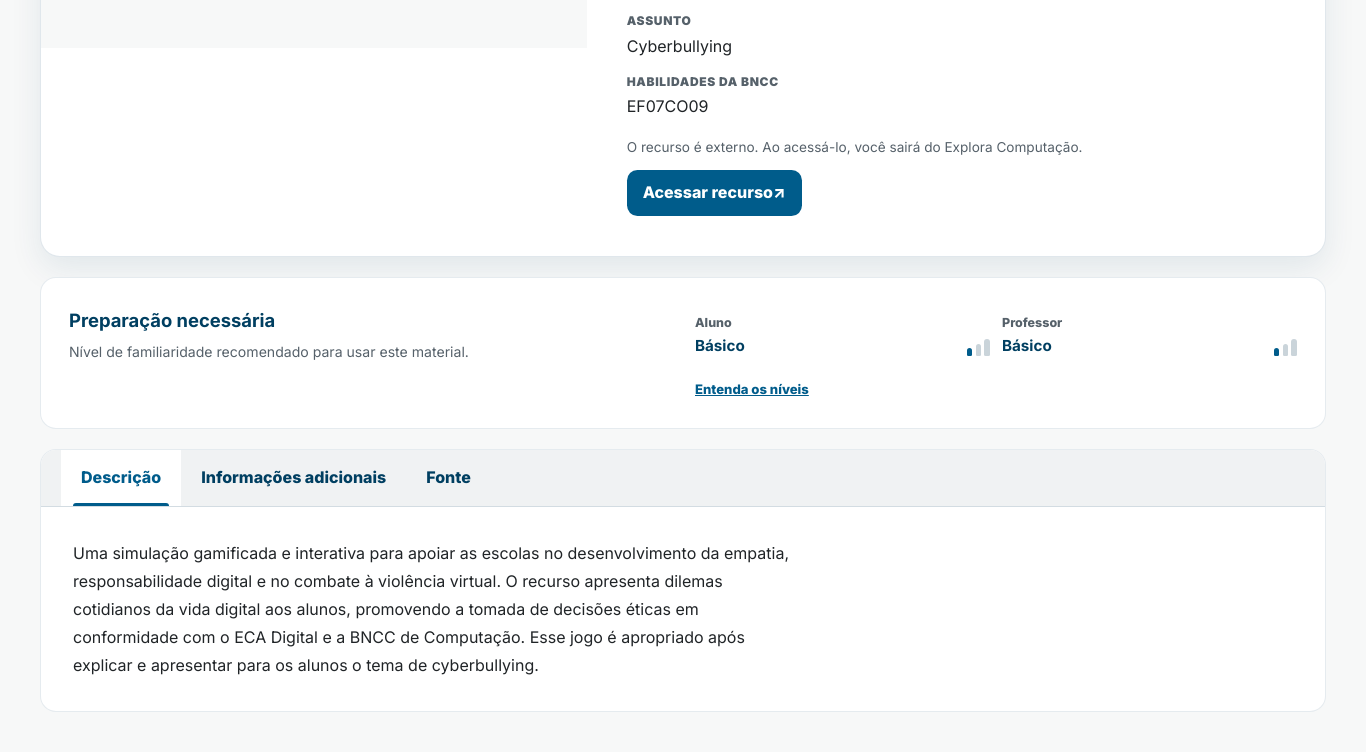
Test: ResourceDetailPage › apresenta a descrição inicialmente e alterna entre as três abas
The width and height of the screenshot is (1366, 752).
(page scrolled)
Expected: the panel shows "Uma simulação gamificada e interativa", [73,543,789,675]
Click the tab "Informações adicionais" at (294, 478), box [181,450,406,506]
(page scrolled)
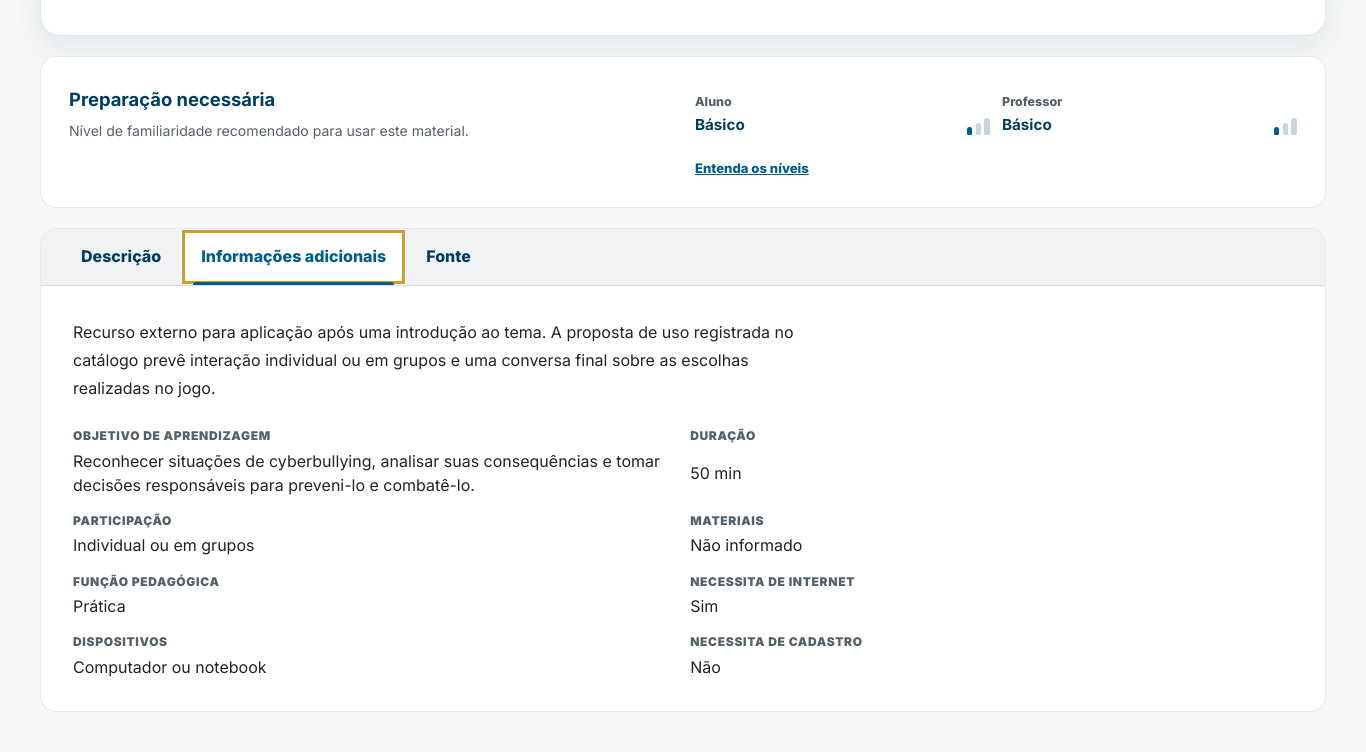
Expected: the panel shows "Objetivo de aprendizagem", [73,428,271,443]
Expected: the panel shows "50 min", [690,463,742,483]
Expected: the panel shows "Individual ou em grupos", [73,535,254,555]
Press Arrowright
(page scrolled)
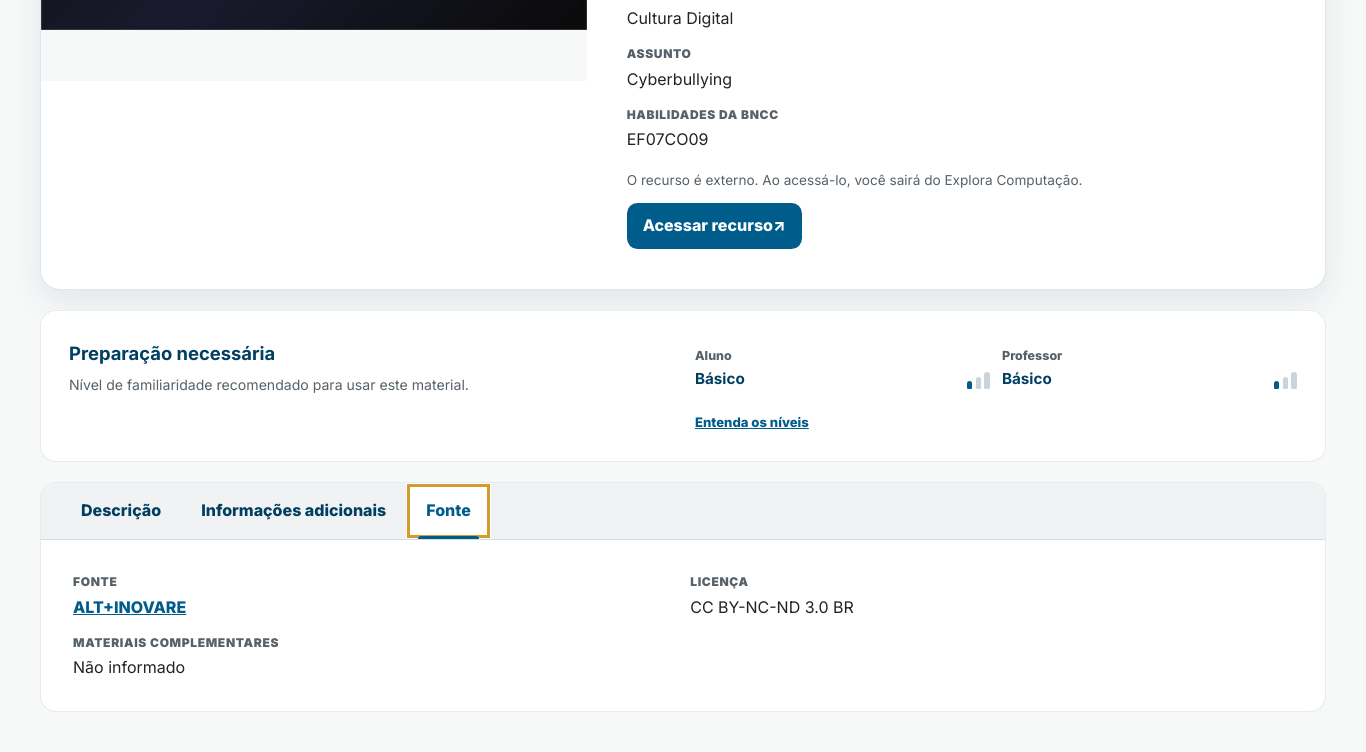
Expected: the link "ALT+INOVARE" is shown, [73,597,186,617]
Expected: the text "CC BY-NC-ND 3.0 BR" is shown, [690,597,854,617]
